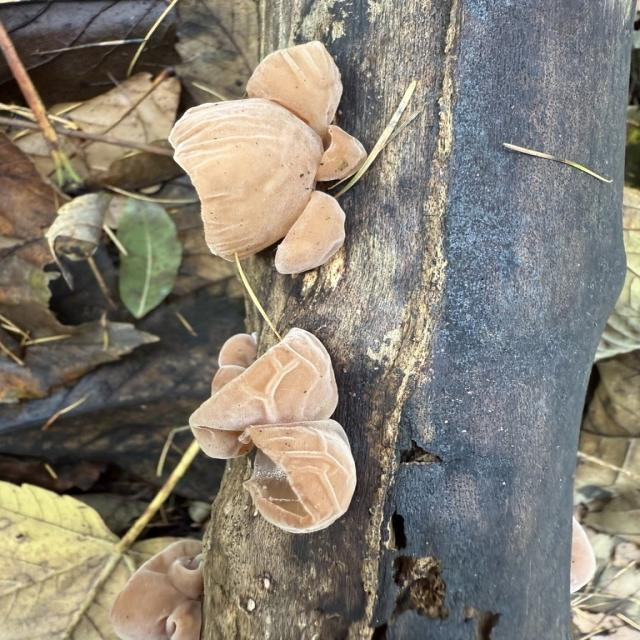Fase Muda: (167, 93, 331, 268), (190, 324, 349, 459), (238, 418, 360, 539), (246, 34, 350, 137), (268, 187, 349, 280), (314, 122, 364, 185), (219, 327, 267, 367), (207, 362, 249, 397)
